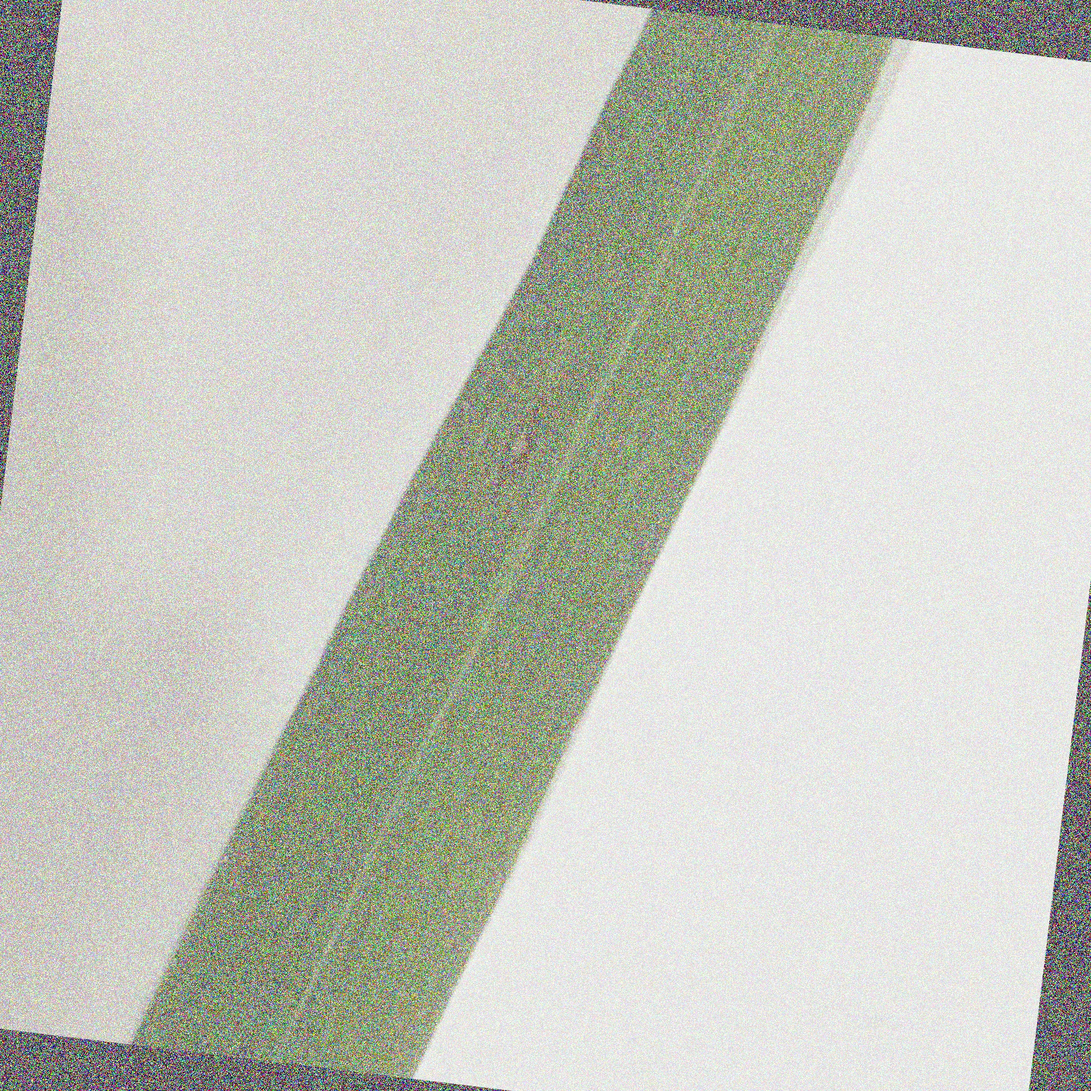Brown_Spot: (487, 330, 555, 525)
